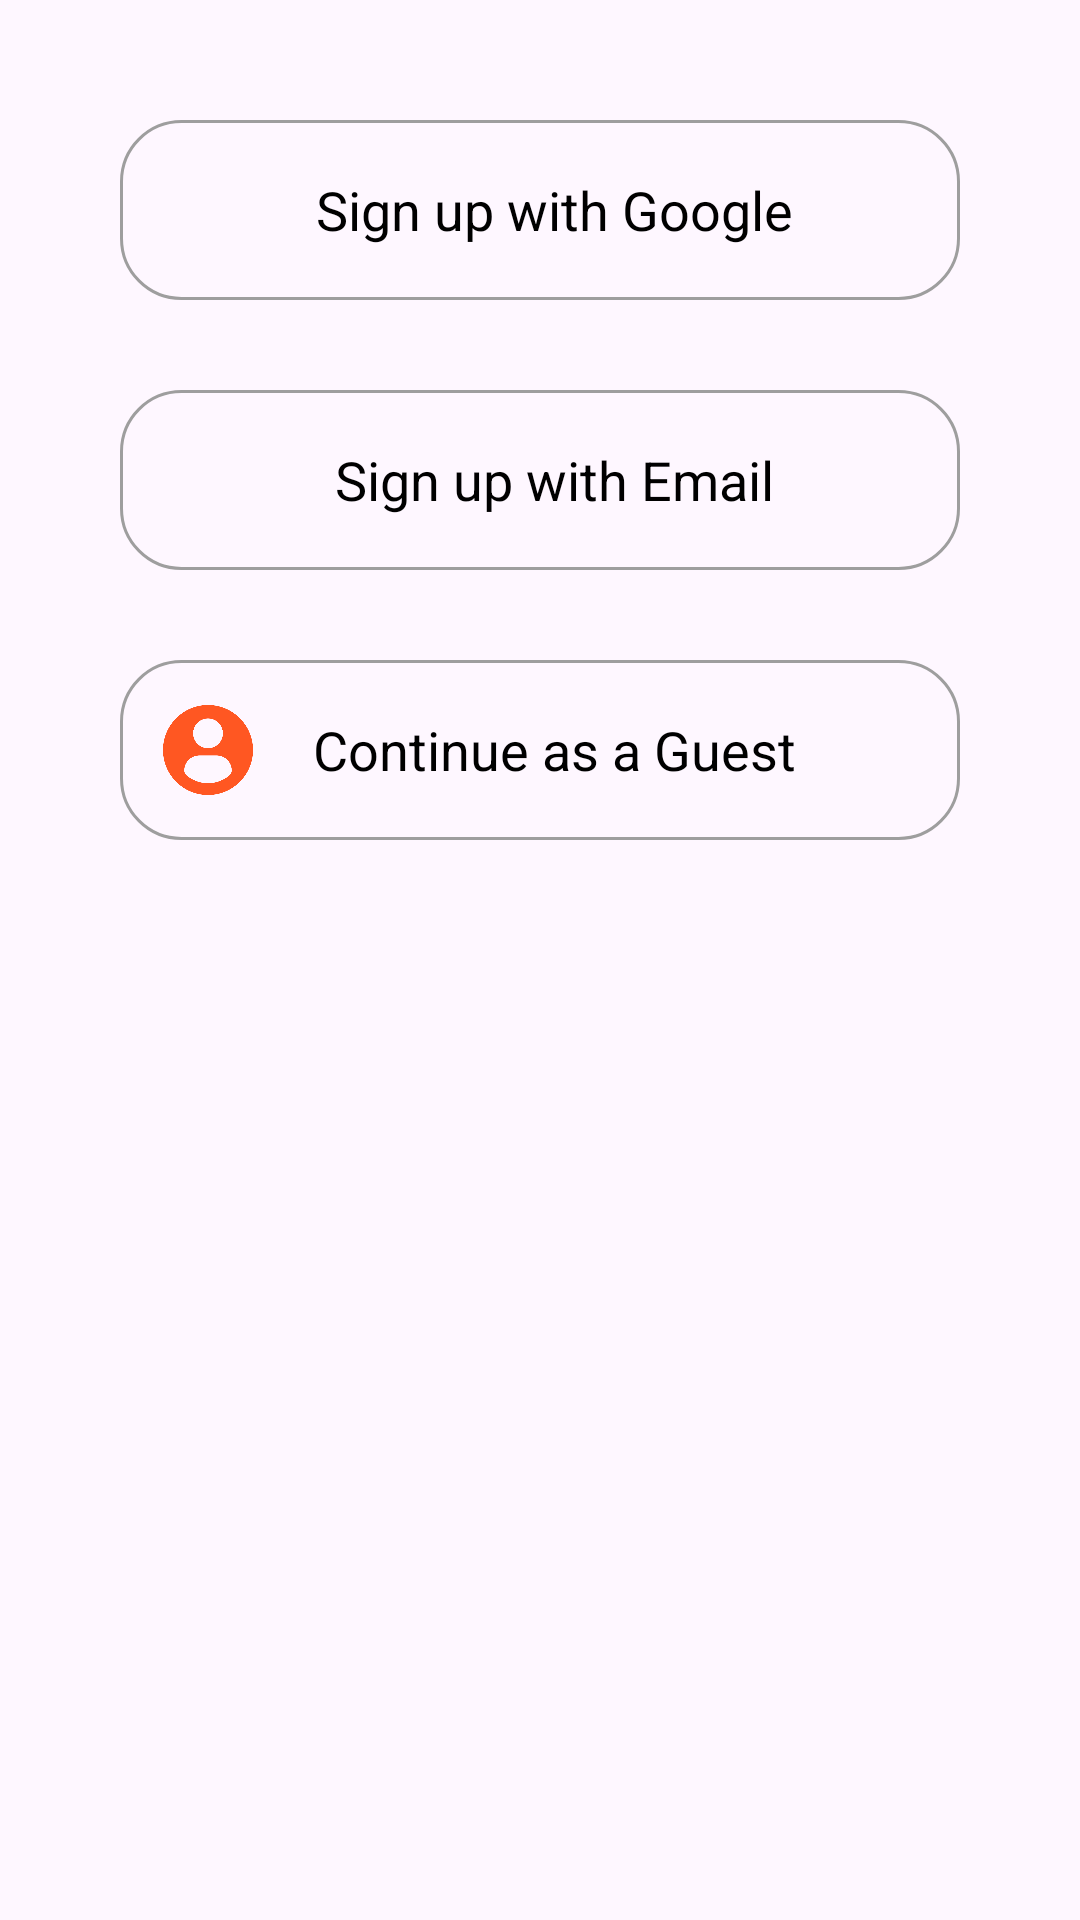

Screen size 1080 x 1920. Icon name, then its center in pixels as (x=x, y=y):
profile user: (x=208, y=750)
